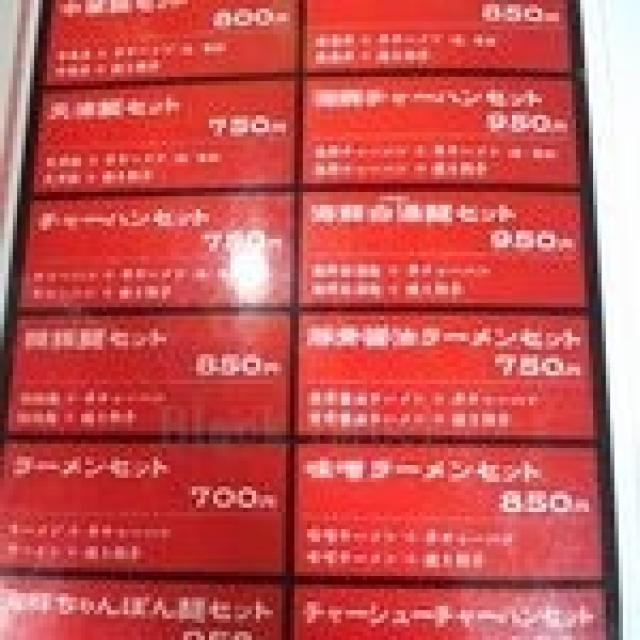box: (286, 439, 614, 585), (0, 435, 290, 572), (290, 311, 597, 439), (299, 183, 589, 311), (4, 307, 294, 435), (17, 188, 294, 311), (34, 77, 303, 201), (299, 73, 580, 188), (43, 0, 303, 90), (290, 572, 614, 640), (299, 0, 572, 77), (0, 572, 299, 640)
